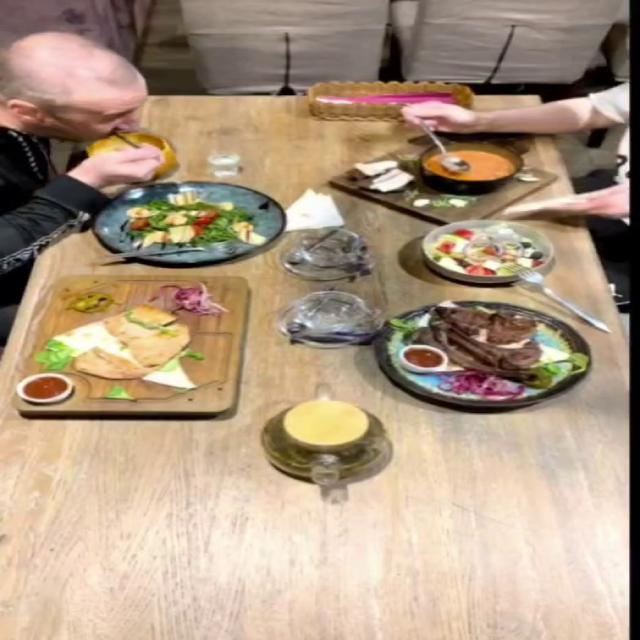alcohol: (220, 136, 264, 188)
meat: (370, 300, 592, 407)
salat: (90, 180, 284, 264), (421, 219, 556, 284)
soup: (330, 140, 558, 226), (86, 133, 177, 179)
tea: (282, 398, 369, 446)
